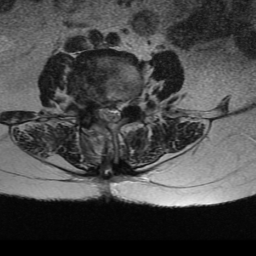CCS_severe_stenosis: (105, 96, 113, 130)
LFS_stenosis: (123, 90, 133, 114)
LLS_normal: (113, 99, 122, 126)
RFS_severe_stenosis: (87, 91, 96, 116)
RLS_normal: (96, 98, 105, 126)
